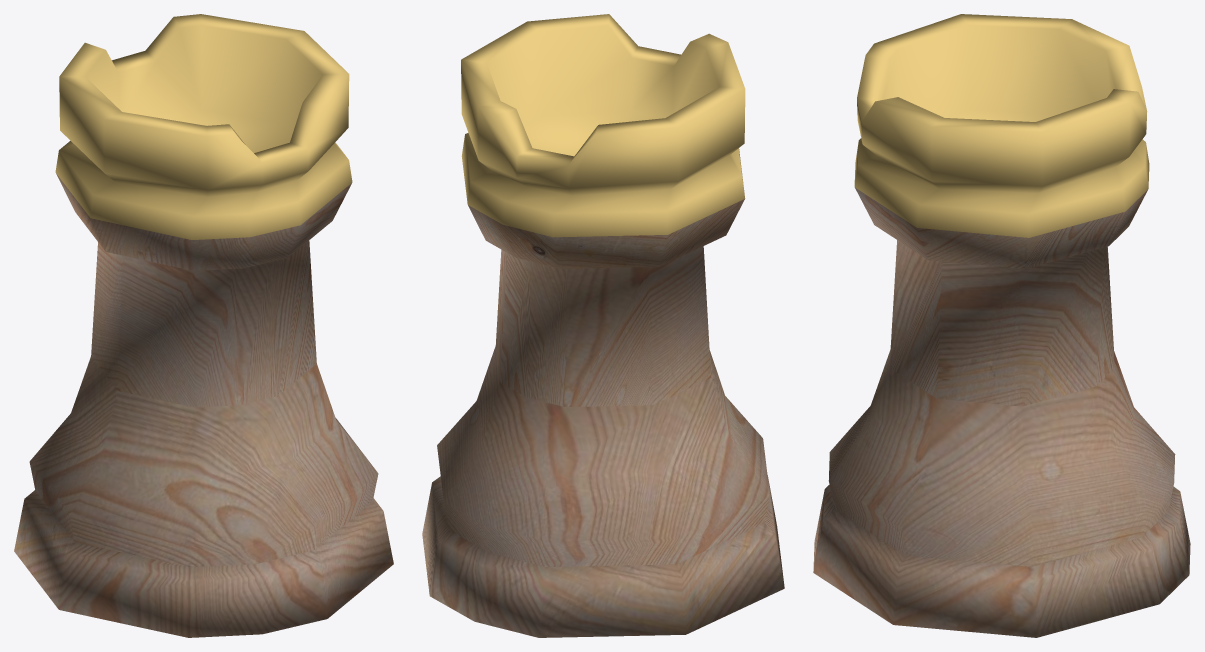
File: gercek4_r_w.glb
3 renders of one model, left to right at view 1: azimuth 30°, elevation 25°; view 2: azimuth 150°, elevation 25°; view 3: azimuth 270°, elevation 25°, orthographic.
Visible parts, largest first — view 1: r; view 2: r; view 3: r.
Part boxes in pixels (x1,y1,x2,y2): r: [14, 14, 393, 637]; r: [422, 14, 784, 637]; r: [813, 14, 1190, 637].
Bounding box in the file's own units: 0.6339 × 0.9 × 0.6339.
Materials: 2 (1 with a texture image).
